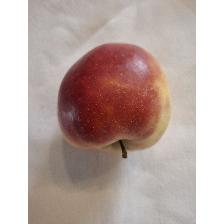Apfel: (56, 40, 174, 160)
